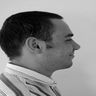ear: (20, 30, 50, 60)
